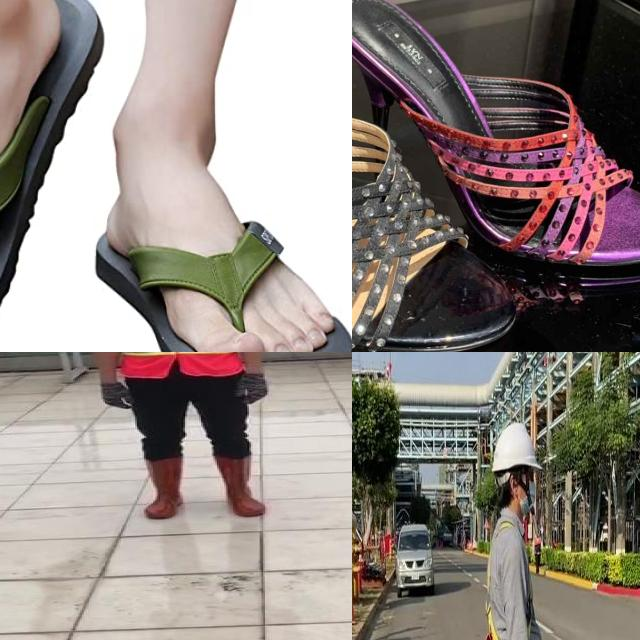Sandals: (352, 0, 640, 286), (352, 0, 528, 352), (100, 114, 352, 352), (0, 0, 62, 352)
boots: (214, 454, 268, 518), (138, 454, 188, 520)
person: (76, 352, 284, 522)
vest: (105, 352, 243, 378)
